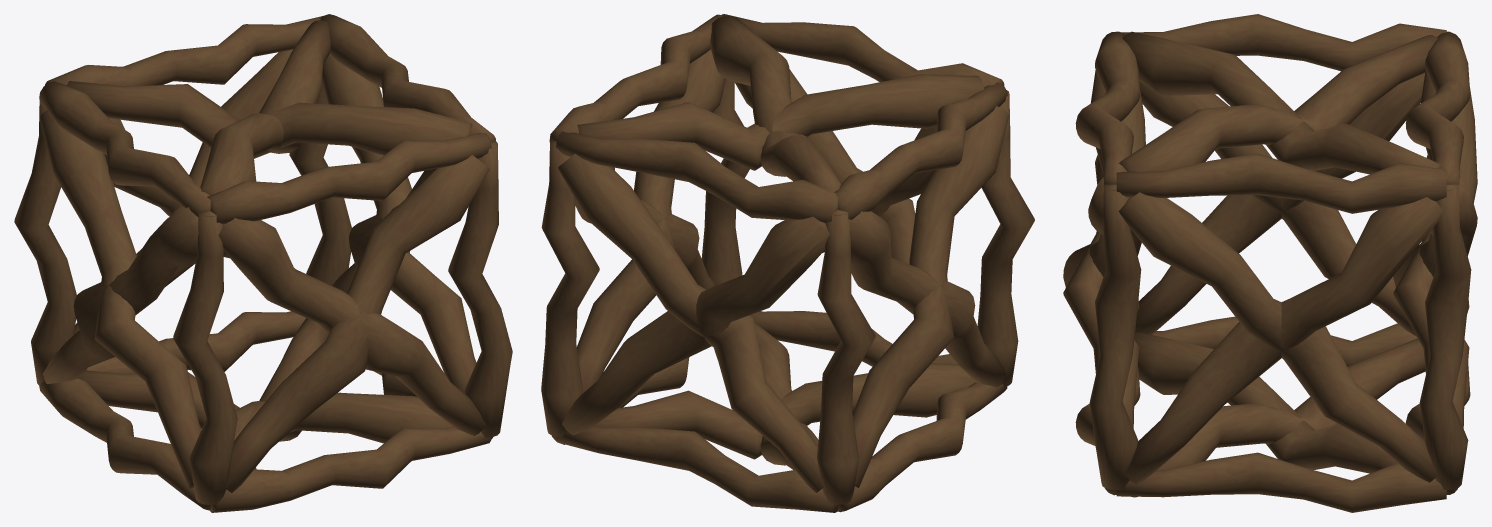
The picture shows the model from 3 angles, left to right: view 1: azimuth 30°, elevation 25°; view 2: azimuth 150°, elevation 25°; view 3: azimuth 270°, elevation 25°; orthographic projection. The views are drawn at different scales.
Parts seen in each view (by area): view 1: Stick.019, Stick.014, Stick.018, Stick.021, Stick, Stick.007, Stick.001, Stick.011, Stick.012, Stick.015, Stick.020, Stick.023 (+11 smaller); view 2: Stick.017, Stick.015, Stick.020, Stick.016, Stick.002, Stick.006, Stick.022, Stick.003, Stick.010, Stick.021, Stick.013, Stick.014 (+12 smaller); view 3: Stick.013, Stick.012, Stick.021, Stick.020, Stick.004, Stick.008, Stick.001, Stick.003, Stick.022, Stick.014, Stick.005, Stick.023 (+10 smaller).
Part boxes in pixels (x1,y1,x2,y2): Stick.019: (225, 155, 489, 492); Stick.014: (40, 110, 201, 489); Stick.018: (218, 218, 485, 435); Stick.021: (67, 81, 472, 158); Stick: (173, 211, 237, 504); Stick.007: (207, 132, 491, 224); Stick.001: (448, 141, 512, 437); Stick.011: (209, 426, 491, 512); Stick.012: (322, 53, 476, 393); Stick.015: (43, 207, 198, 384); Stick.020: (200, 20, 330, 195); Stick.023: (78, 370, 452, 443); Stick.017: (558, 154, 823, 492); Stick.015: (852, 106, 1009, 487); Stick.020: (577, 74, 984, 170); Stick.016: (562, 216, 829, 435); Stick.002: (817, 210, 875, 504); Stick.006: (556, 131, 837, 223); Stick.022: (595, 363, 975, 459); Stick.003: (541, 140, 599, 437); Stick.010: (556, 426, 837, 512); Stick.021: (710, 15, 840, 192); Stick.013: (577, 49, 725, 392); Stick.014: (849, 211, 1005, 387); Stick.013: (1118, 192, 1437, 482); Stick.012: (1125, 197, 1443, 484); Stick.021: (1119, 35, 1437, 171); Stick.020: (1122, 31, 1441, 174); Stick.004: (1116, 153, 1446, 213); Stick.008: (1116, 452, 1446, 512); Stick.001: (1089, 184, 1141, 490); Stick.003: (1419, 184, 1471, 489); Stick.022: (1134, 332, 1397, 473); Stick.014: (1135, 73, 1424, 334); Stick.005: (1121, 14, 1446, 71); Stick.023: (1131, 338, 1425, 497).
Bounding box in the file's own units: 2.51 × 2.51 × 2.51.
Materials: 1 (1 with a texture image).
